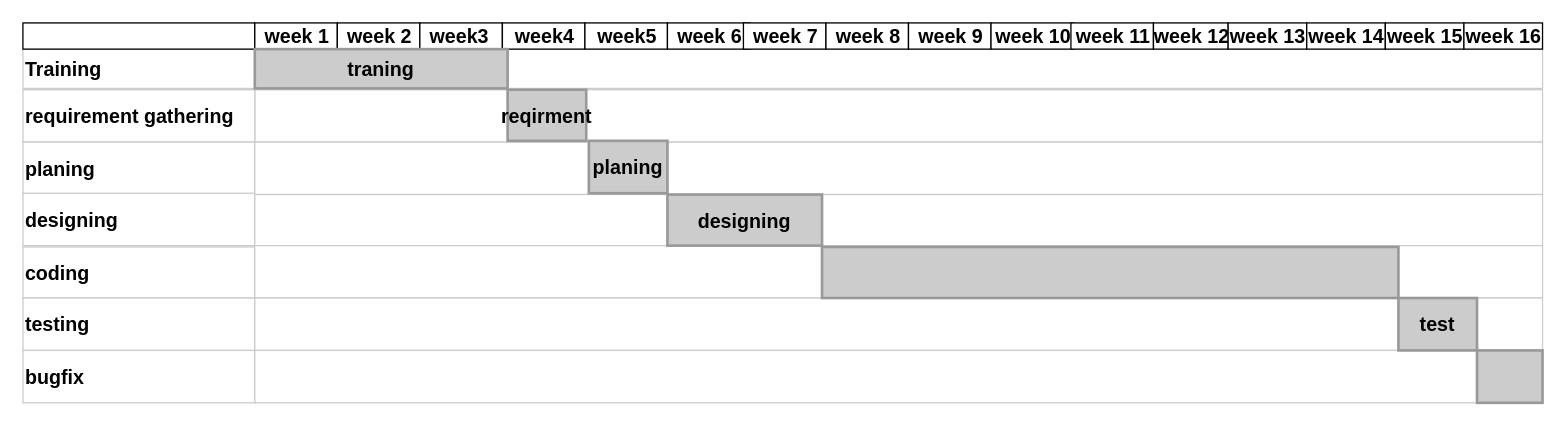
The diagram is 1567 pixels wide and 427 high, and some of its shapes have lost their labels. The shapes that lost their labels are listed below. From the top down, each one's centre as x and y in pixels, then its label:
At pixel 138 35: "Task Name".
At pixel 1109 272: "coding and development".
At pixel 1509 375: "bug fix".
